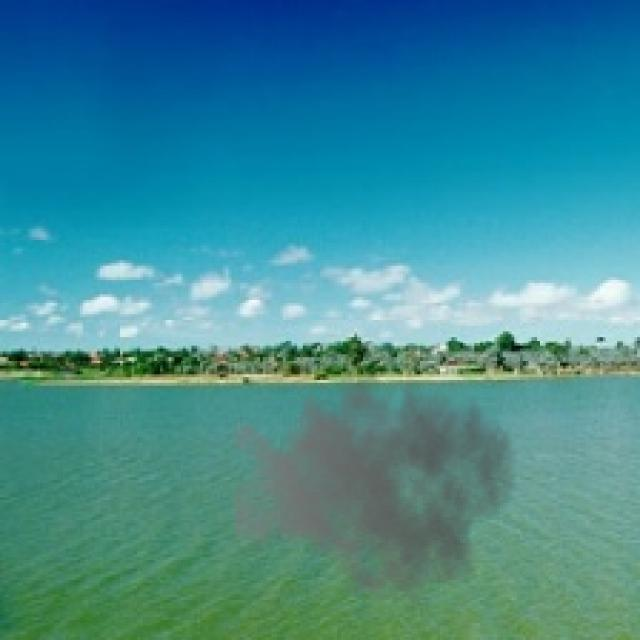smoke: (234, 352, 517, 608)
